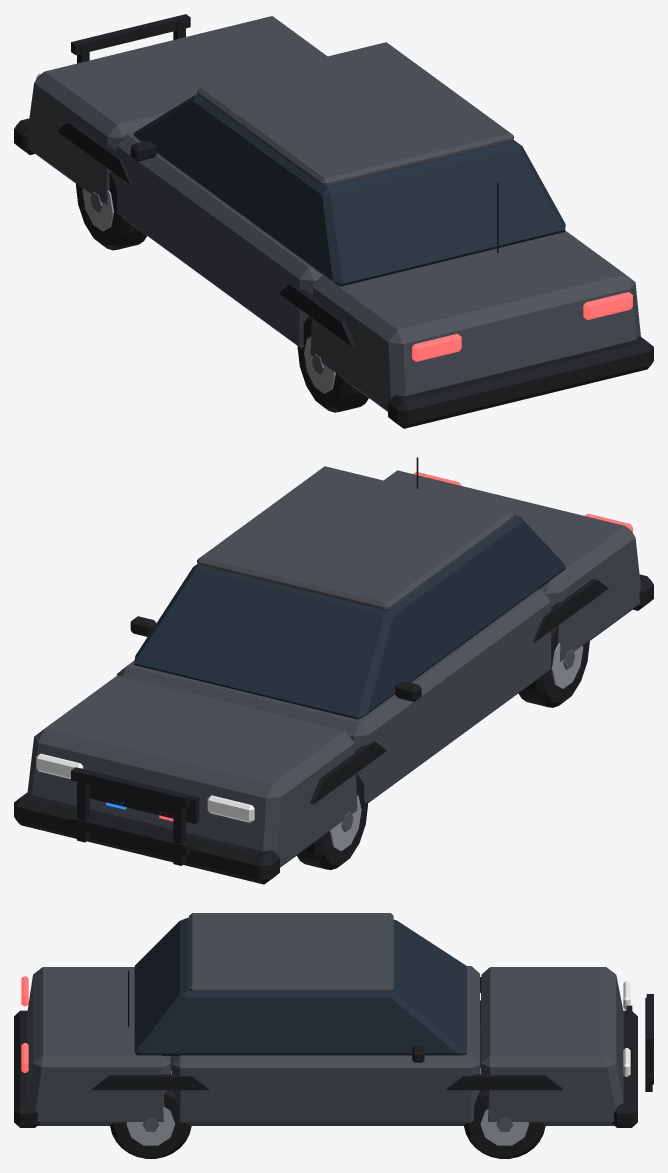
Rendered from PD_UnmarkedSedan.fbx.
3 views of the same model, one above another, from view 1: azimuth 30°, elevation 25°; view 2: azimuth 150°, elevation 25°; view 3: azimuth 270°, elevation 25° (orthographic). The views are drawn at different scales.
Parts seen in each view (by area): view 1: PD_UnmarkedSedan_Body, PD_UnmarkedSedan_Wheel_FL, PD_UnmarkedSedan_Wheel_RL; view 2: PD_UnmarkedSedan_Body, PD_UnmarkedSedan_Wheel_RL, PD_UnmarkedSedan_Wheel_FL; view 3: PD_UnmarkedSedan_Body, PD_UnmarkedSedan_Wheel_RR, PD_UnmarkedSedan_Wheel_FR.
Boxes of the visible parts, x1,y1,x2,y2 form: PD_UnmarkedSedan_Body: [14, 14, 653, 428]; PD_UnmarkedSedan_Wheel_FL: [76, 172, 146, 250]; PD_UnmarkedSedan_Wheel_RL: [297, 316, 368, 412]; PD_UnmarkedSedan_Body: [14, 457, 653, 884]; PD_UnmarkedSedan_Wheel_RL: [518, 626, 589, 707]; PD_UnmarkedSedan_Wheel_FL: [297, 773, 367, 869]; PD_UnmarkedSedan_Body: [14, 913, 653, 1127]; PD_UnmarkedSedan_Wheel_RR: [110, 1090, 191, 1158]; PD_UnmarkedSedan_Wheel_FR: [464, 1090, 545, 1158].
Bounding box in the file's own units: 2.14 × 1.47 × 5.19.
